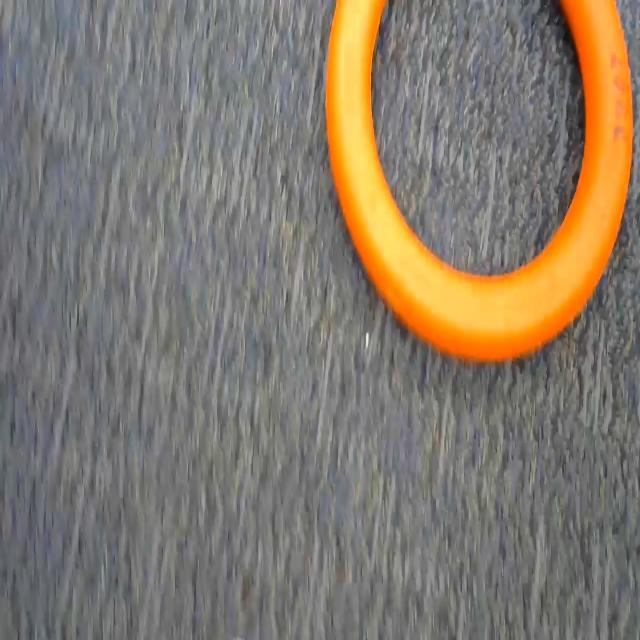note: (324, 0, 640, 379)
